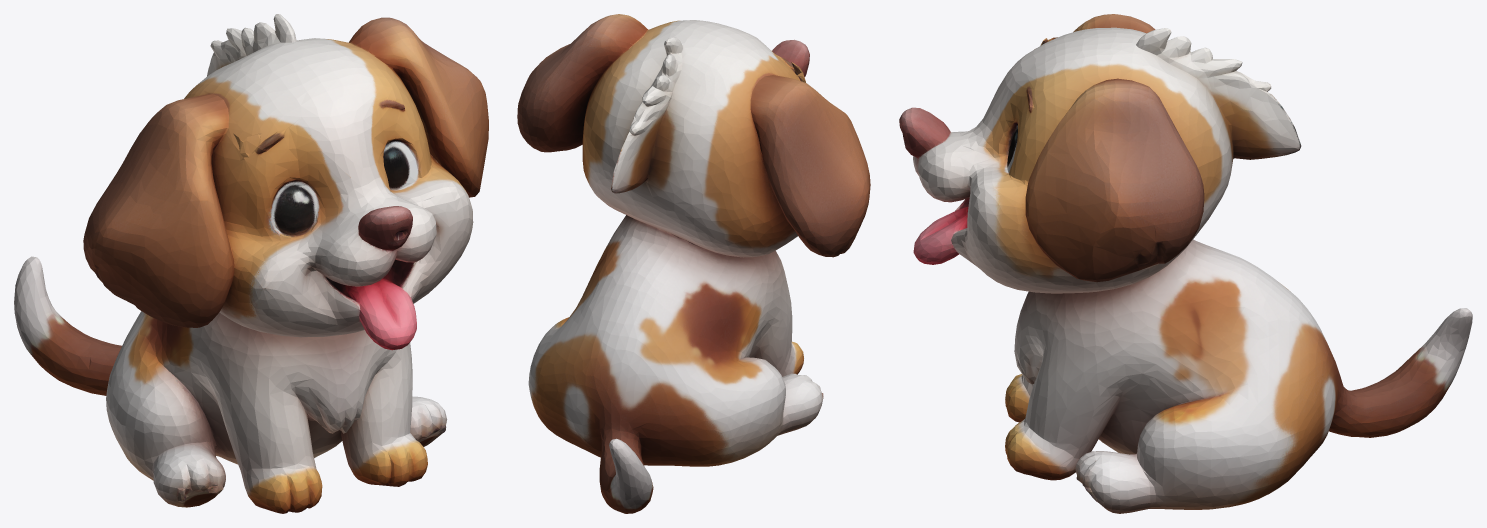
Rendered from dog.glb.
The picture shows the model from 3 angles, left to right: view 1: azimuth 30°, elevation 25°; view 2: azimuth 150°, elevation 25°; view 3: azimuth 270°, elevation 25°; orthographic projection. The views are drawn at different scales.
Parts seen in each view (by area): view 1: world; view 2: world; view 3: world.
Boxes of the visible parts, x1,y1,x2,y2 form: world: (14,14,488,513); world: (517,14,870,513); world: (899,14,1472,513).
Size of the model in its own units: 0.6877 by 0.7619 by 0.903.
1 material, 1 textured.
